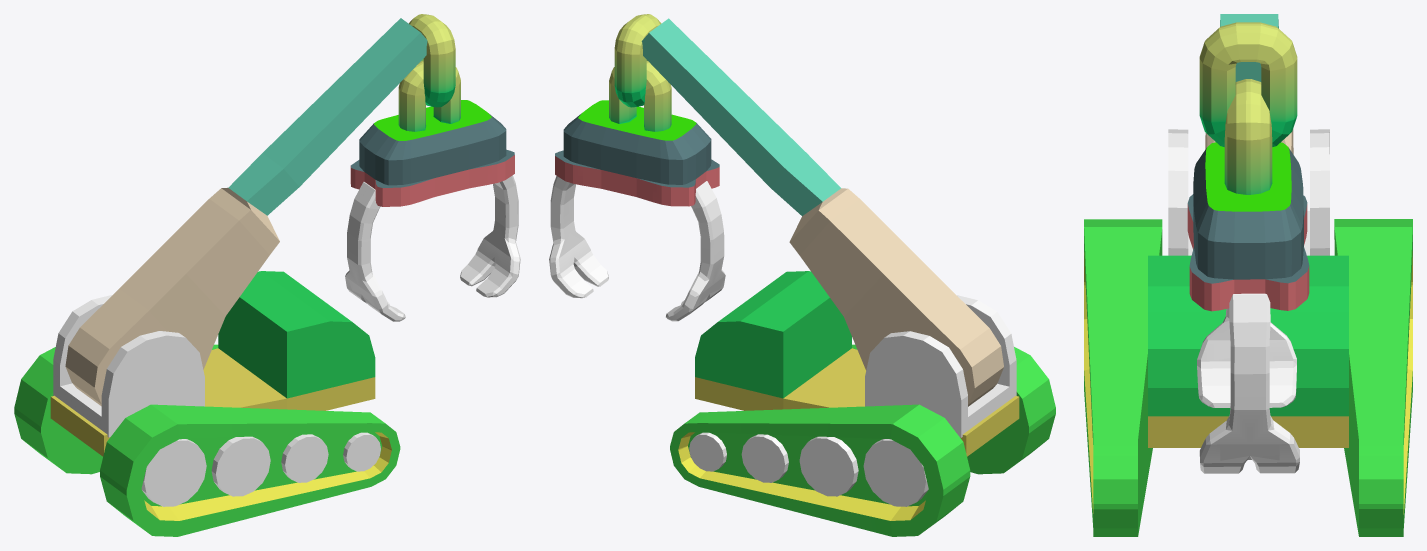
The model's file is Advanced Build Loadout Crane.fbx.
The picture shows the model from 3 angles, left to right: view 1: azimuth 30°, elevation 25°; view 2: azimuth 150°, elevation 25°; view 3: azimuth 270°, elevation 25°; orthographic projection. The views are drawn at different scales.
Visible parts, largest first — view 1: Crane, Tracks, Body, Cube, Hinge, Wheels, Cube_001, PlayerCraneChain__1_, PlayerCraneChain; view 2: Crane, Tracks, Body, Cube, Hinge, Wheels, Cube_001, PlayerCraneChain__1_, PlayerCraneChain; view 3: Tracks, Body, Cube, Cube_001, PlayerCraneChain__1_, Hinge, PlayerCraneChain, Crane.
Part boxes in pixels (x1,y1,x2,y2): Crane: (65, 18, 427, 406); Tracks: (14, 344, 400, 536); Body: (50, 271, 375, 456); Cube: (350, 100, 514, 206); Hinge: (53, 295, 204, 437); Wheels: (141, 432, 380, 506); Cube_001: (345, 175, 520, 321); PlayerCraneChain__1_: (409, 14, 455, 107); PlayerCraneChain: (398, 60, 460, 131); Crane: (641, 18, 1003, 406); Tracks: (670, 344, 1055, 536); Body: (695, 271, 1019, 456); Cube: (555, 100, 719, 206); Hinge: (865, 295, 1016, 437); Wheels: (689, 432, 928, 506); Cube_001: (549, 176, 725, 321); PlayerCraneChain__1_: (614, 14, 661, 107); PlayerCraneChain: (609, 61, 671, 131); Tracks: (1084, 219, 1412, 536); Body: (1148, 255, 1348, 447); Cube: (1187, 142, 1309, 311); Cube_001: (1197, 293, 1299, 473); PlayerCraneChain__1_: (1199, 22, 1297, 146); Hinge: (1168, 129, 1329, 255); PlayerCraneChain: (1224, 79, 1272, 194); Crane: (1205, 14, 1293, 154).
Bounding box in the file's own units: 89.27 × 77.35 × 39.22.
